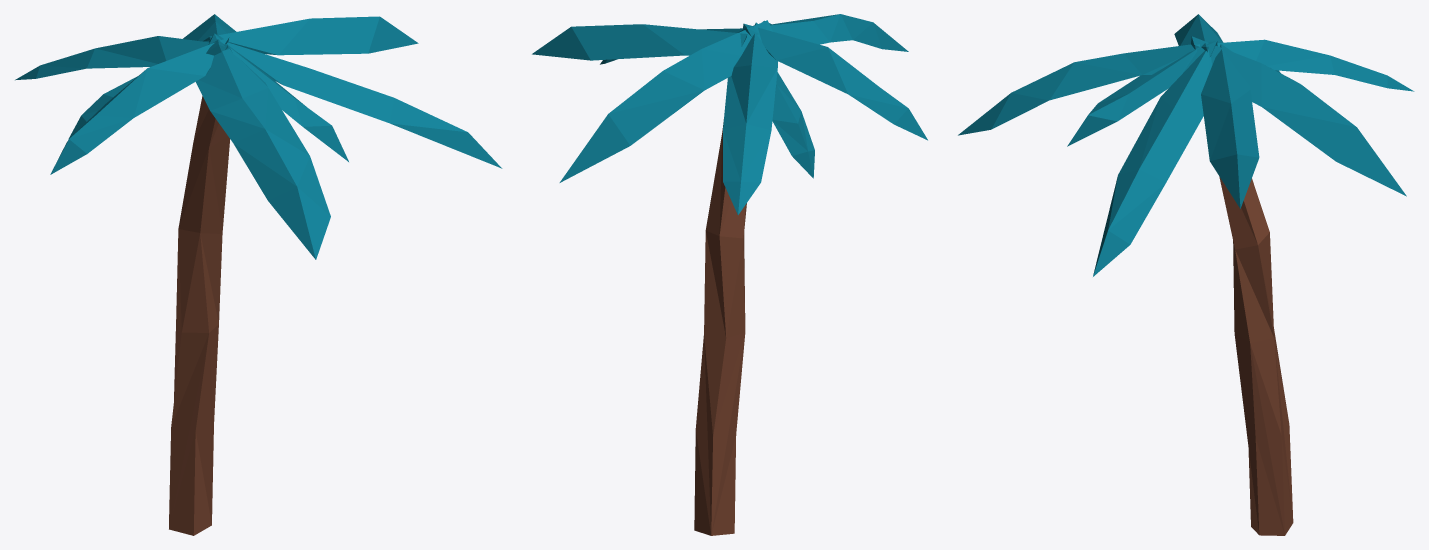
Rendered from Tree_13_summer_blue_vc.fbx.
3 views of the same model, side by side, from view 1: azimuth 30°, elevation 25°; view 2: azimuth 150°, elevation 25°; view 3: azimuth 270°, elevation 25° (orthographic). The views are drawn at different scales.
Visible parts, largest first — view 1: Tree_13_summer_blue_vc; view 2: Tree_13_summer_blue_vc; view 3: Tree_13_summer_blue_vc.
Part boxes in pixels (<box>): Tree_13_summer_blue_vc: <box>15,14,502,535</box>; Tree_13_summer_blue_vc: <box>532,14,927,535</box>; Tree_13_summer_blue_vc: <box>958,14,1414,535</box>.
Bounding box in the file's own units: 189 × 233 × 198.
